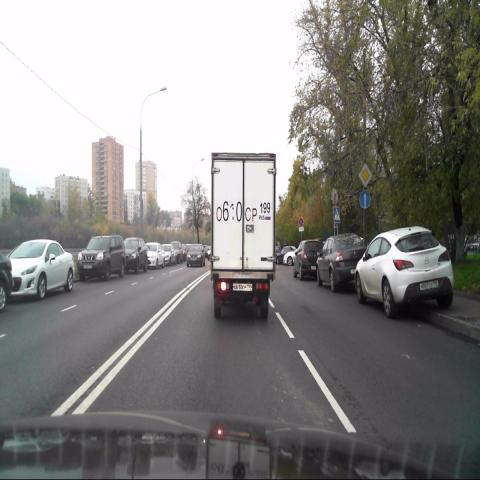2_1: (359, 162, 372, 186)
4_1_1: (359, 189, 371, 209)
5_19_1: (334, 207, 340, 222)
